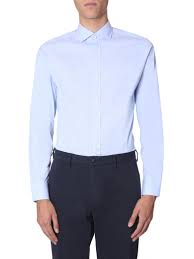F_dress pants: (41, 148, 142, 259)
F_shirt: (27, 16, 174, 204)
